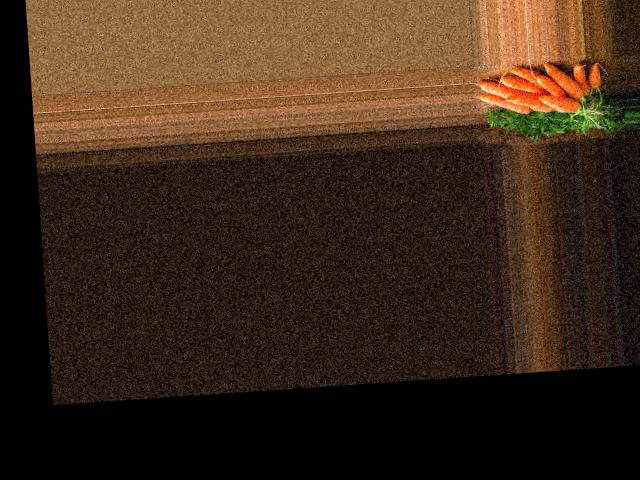carrot: (543, 61, 588, 105)
